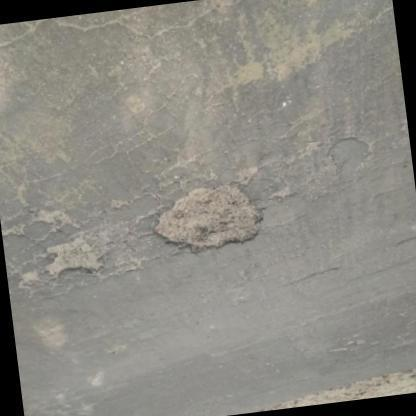pothole: (152, 182, 264, 253), (46, 233, 101, 281)
